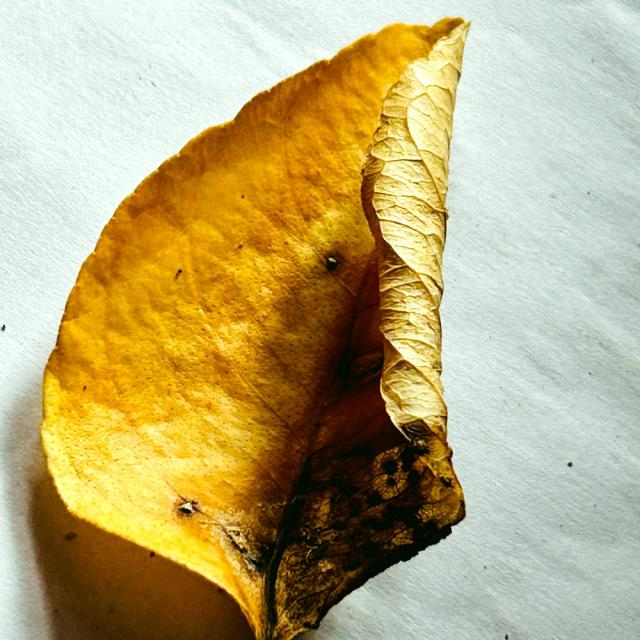DryLeaf_Lemon: (41, 18, 468, 639)
